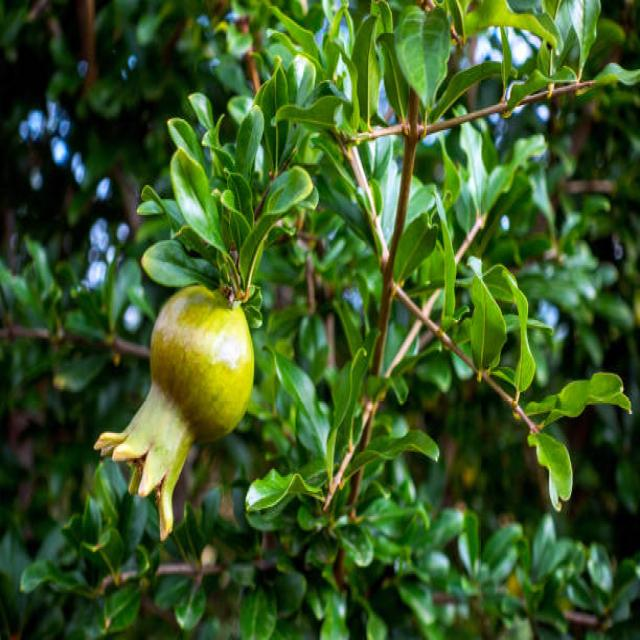Unripe: (97, 284, 255, 539)
